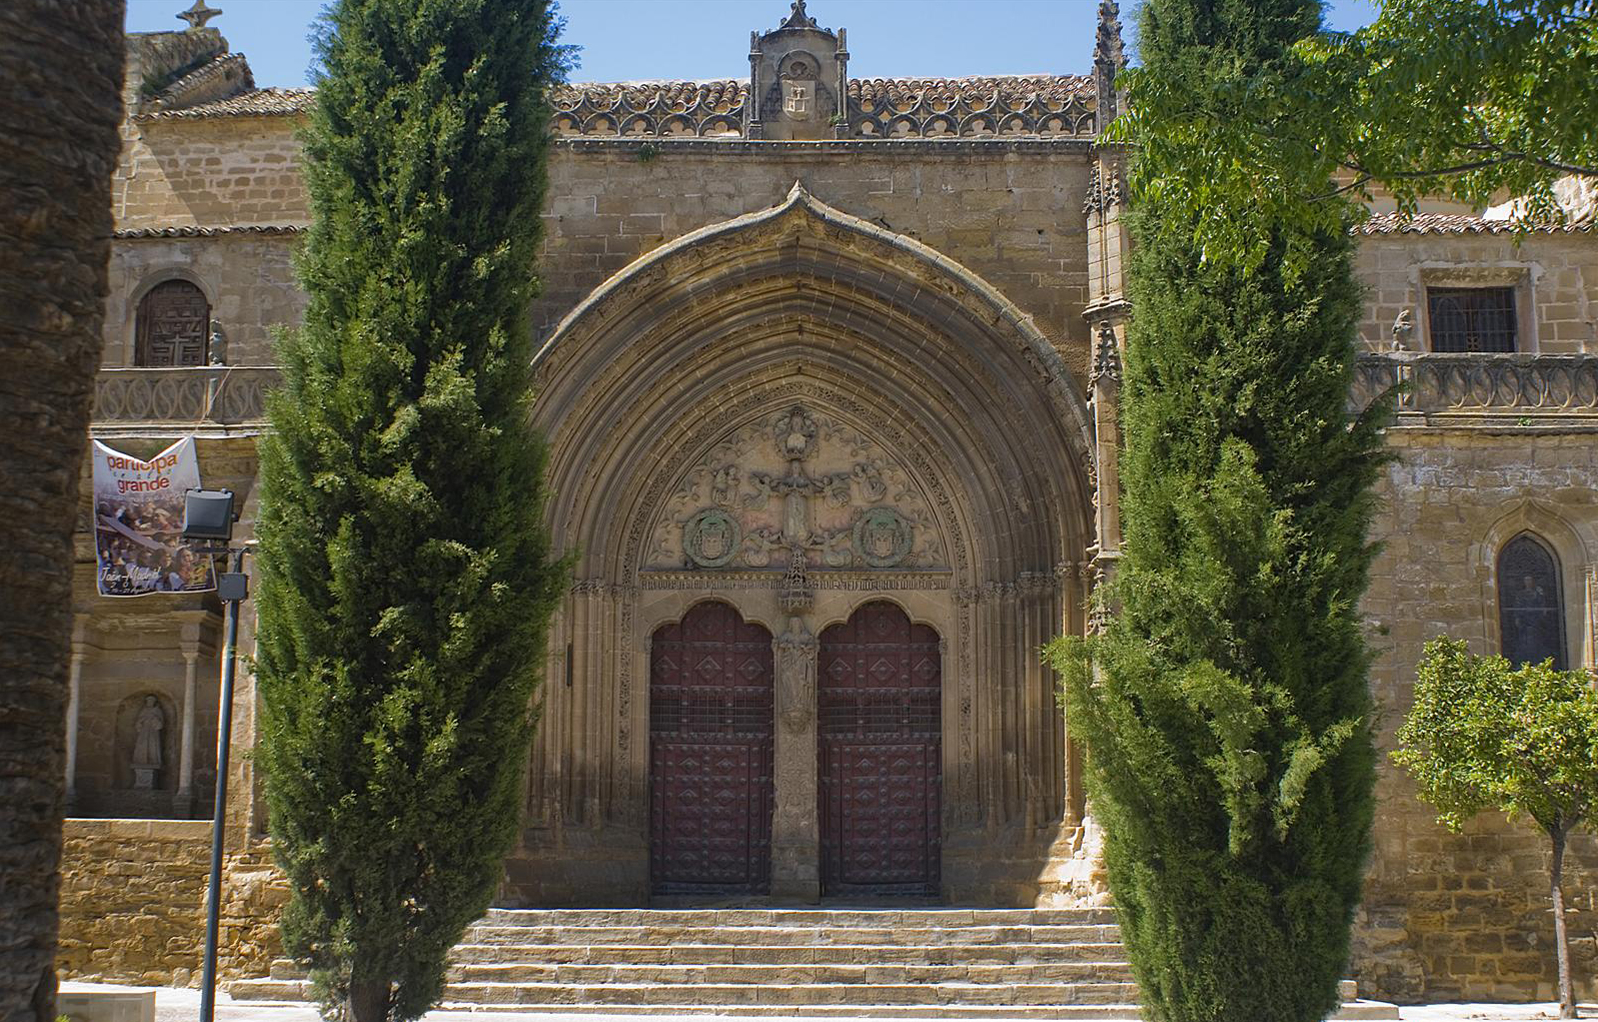arco-apuntado: (592, 244, 980, 564), (1466, 494, 1598, 587)
arco-conopial: (659, 172, 921, 242)
arco-trilobulado: (634, 588, 789, 662), (806, 587, 952, 660)
